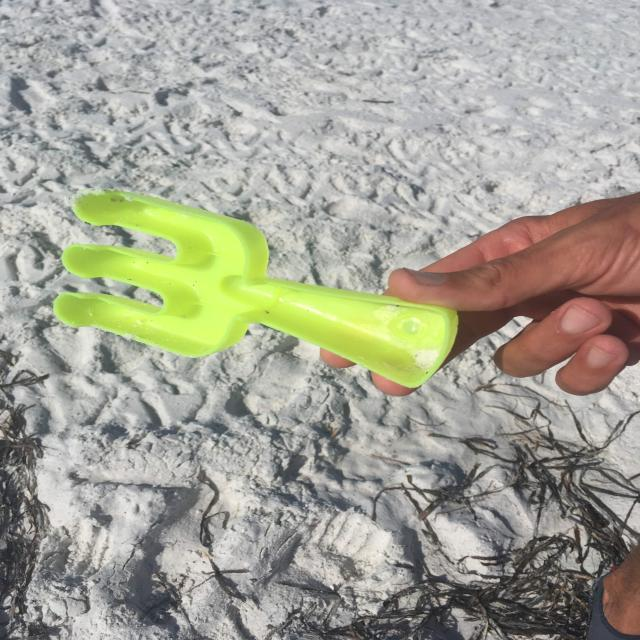litter: (251, 136, 517, 440)
